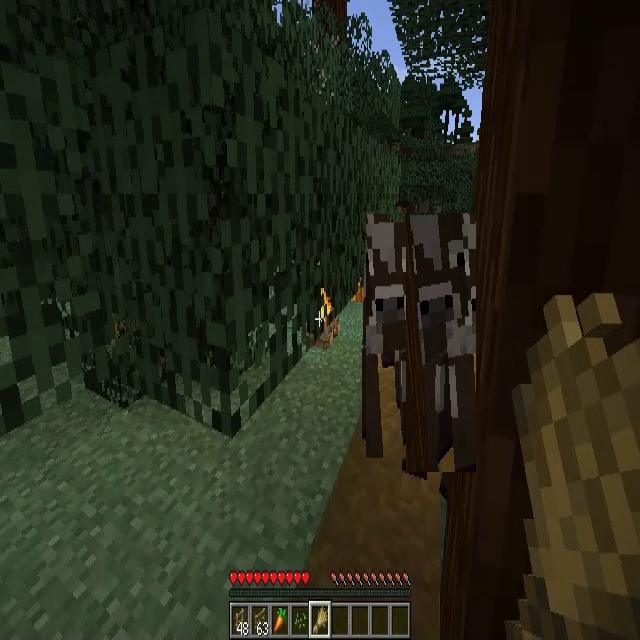cow: (406, 213, 476, 472), (366, 214, 420, 458)
